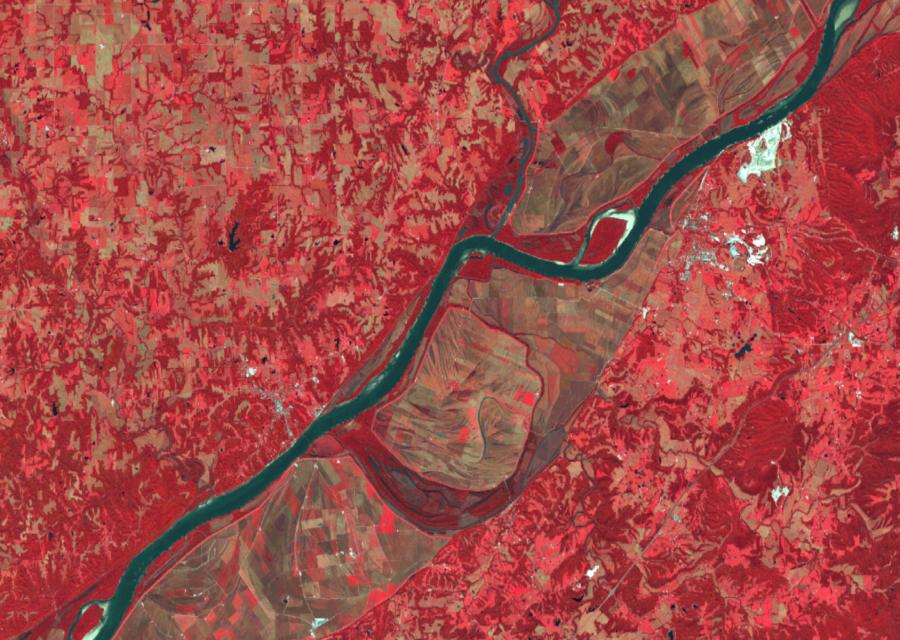Potential Lime Manufacturing Facility: (737, 120, 790, 185)
